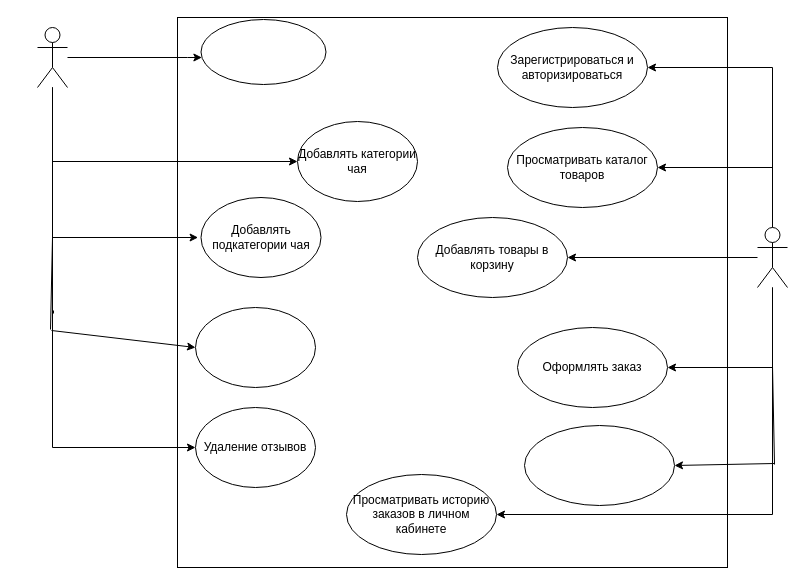
This 805x585 diagram has some shape labels left out. The box of each missing label's shape, as (x1, y1, x2, y2) in pixels:
Administrator: (36, 26, 68, 88)
User: (756, 226, 788, 288)
Добавлять товар в каталог: (200, 18, 326, 84)
Оставлять отзывы: (524, 424, 674, 506)
Удалять товары: (194, 306, 316, 388)
